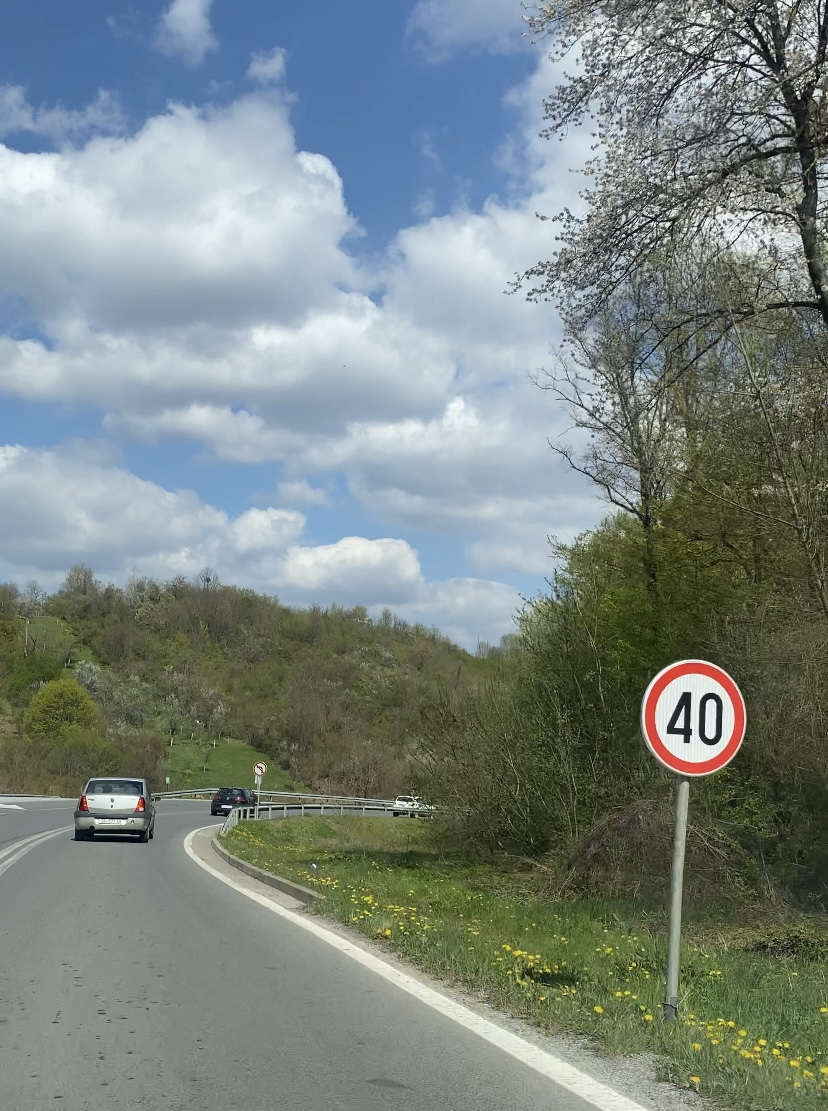Ograničenje brzine 40: (641, 658, 747, 775)
